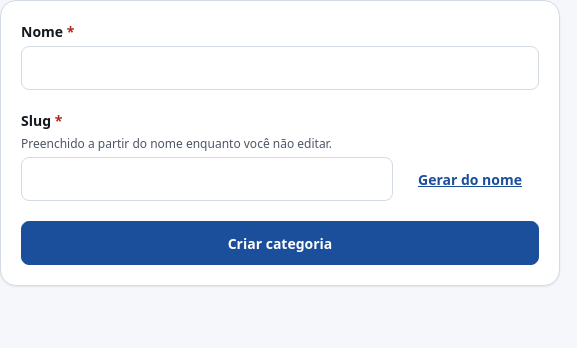
Test: CategoryForm › shows a validation error when the name is empty
Click the button "Criar categoria": (280,243) [21, 221, 539, 265]
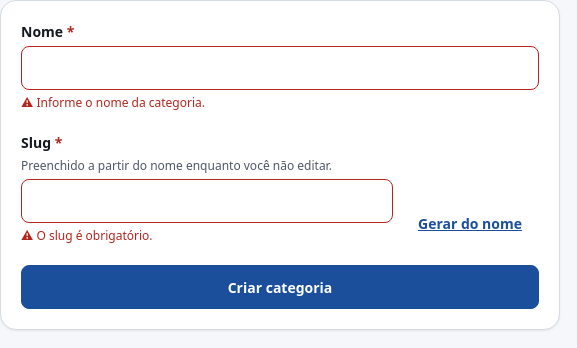
Expected: the text "Informe o nome da categoria." is shown, [36, 94, 205, 111]
